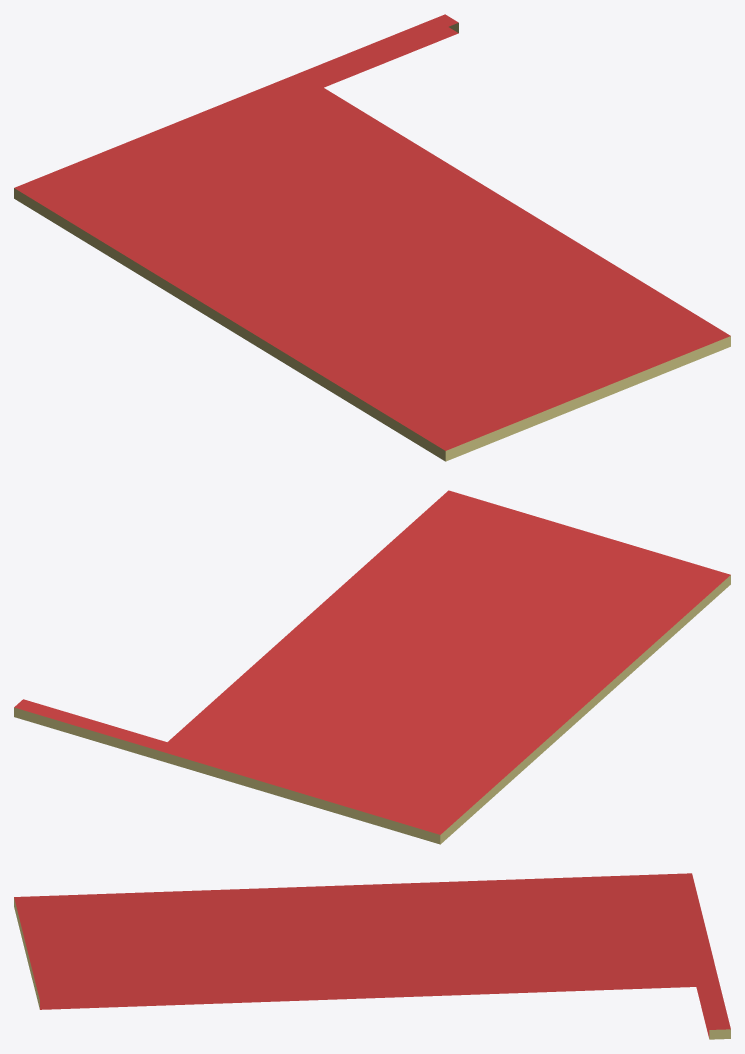
3 views of the same model, one above another, from view 1: azimuth 30°, elevation 25°; view 2: azimuth 150°, elevation 25°; view 3: azimuth 270°, elevation 25° (orthographic). The views are drawn at different scales.
Bounding box in the file's own units: 4.44 × 6.76 × 0.542.
